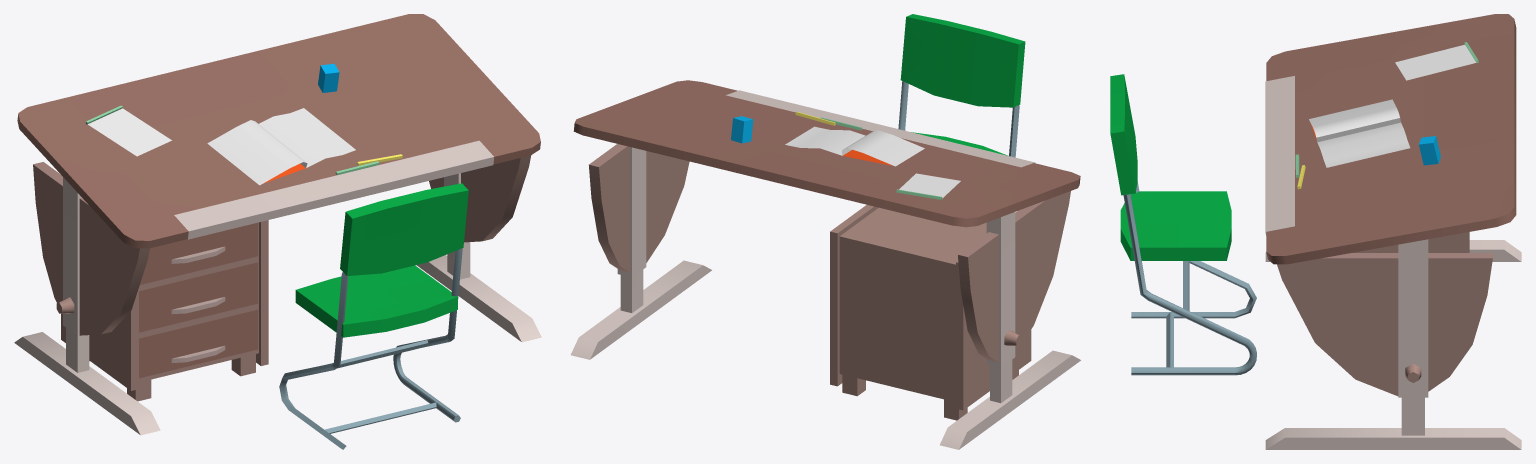
The model's file is office_table_013.glb.
3 views of the same model, side by side, from view 1: azimuth 30°, elevation 25°; view 2: azimuth 150°, elevation 25°; view 3: azimuth 270°, elevation 25° (orthographic). The views are drawn at different scales.
Parts seen in each view (by area): view 1: office_table_013; view 2: office_table_013; view 3: office_table_013.
Boxes of the visible parts, x1,y1,x2,y2 form: office_table_013: (14,14,541,449); office_table_013: (570,14,1080,449); office_table_013: (1110,14,1521,449).
Size of the model in its own units: 0.8243 by 0.4597 by 0.6952.
1 material, 1 textured.
